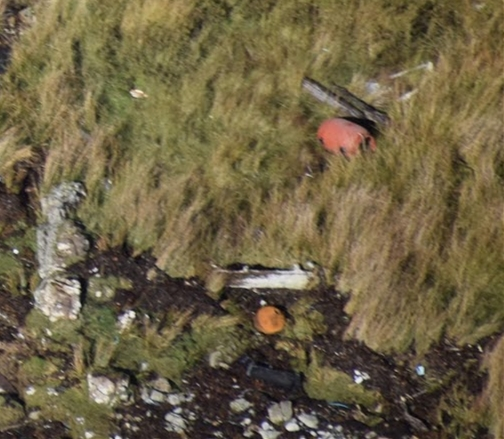straight_bar: (304, 69, 393, 122), (219, 259, 326, 297), (240, 356, 306, 393)
white_in_green: (295, 94, 396, 182), (229, 287, 311, 352), (113, 68, 165, 115), (399, 346, 445, 391)
